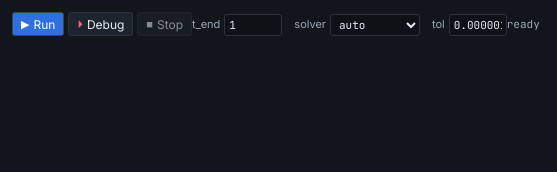
Test case: RunBar › rejects a non-positive t_end and restores it on Escape
This screenshot has width=557, height=172.
Replace the text in the field labelled "t_end" with "0": (253, 25) [224,14,282,36]
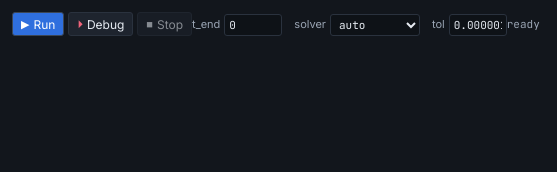
Leave the field labelled "t_end", box [224,14,282,36]
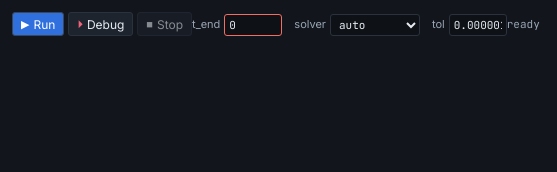
Expected: the field labelled "t_end" is marked as invalid
Press Escape in the field labelled "t_end", box [224,14,282,36]
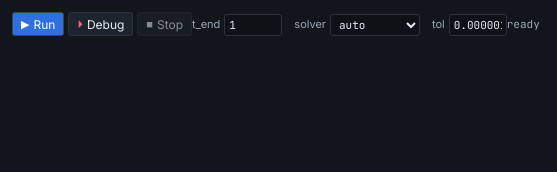
Expected: the field labelled "t_end" holds "1", [224,14,282,36]
